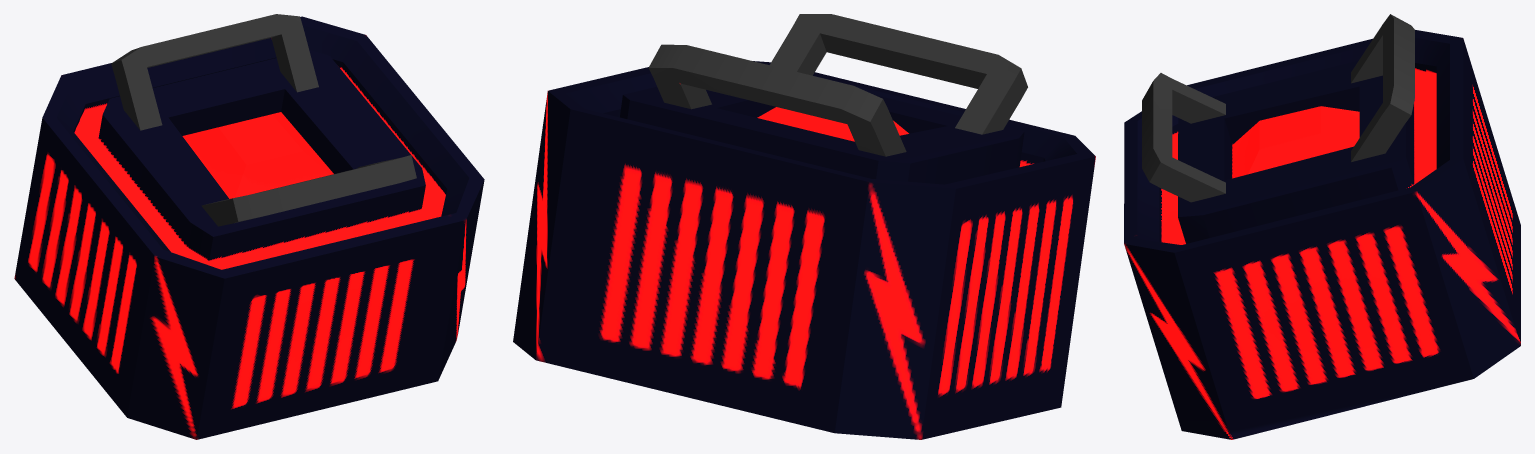
The model's file is robot_battery.glb.
3 views of the same model, side by side, from view 1: azimuth 30°, elevation 25°; view 2: azimuth 150°, elevation 25°; view 3: azimuth 270°, elevation 25° (orthographic). The views are drawn at different scales.
Parts seen in each view (by area): view 1: bettery.001; view 2: bettery.001; view 3: bettery.001.
Boxes of the visible parts, left/top/right/bottom form: bettery.001: left=14, top=14, right=484, bottom=439; bettery.001: left=513, top=14, right=1095, bottom=439; bettery.001: left=1124, top=14, right=1520, bottom=439.
Size of what is drawn, in the model's own units: 1.21 by 1.09 by 1.24.
Materials: 1 (1 with a texture image).
